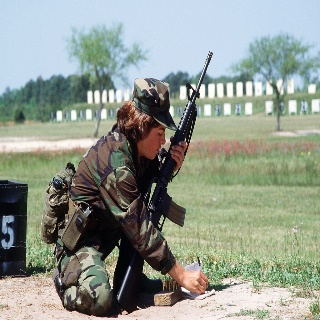rifle: (112, 50, 215, 313)
